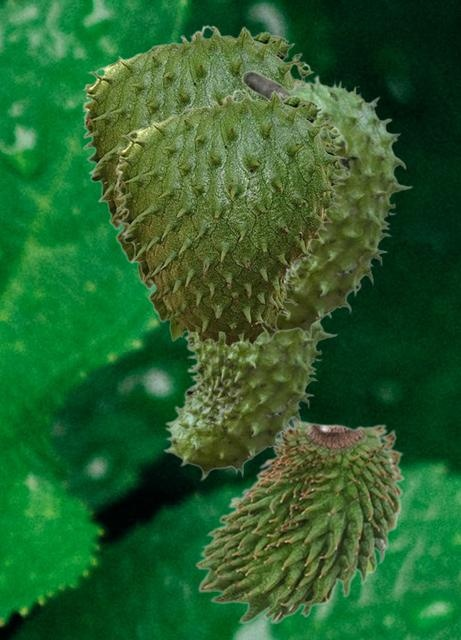guyabano: (115, 88, 348, 354), (82, 24, 315, 282), (241, 70, 412, 343), (194, 418, 404, 623), (162, 313, 337, 480)
